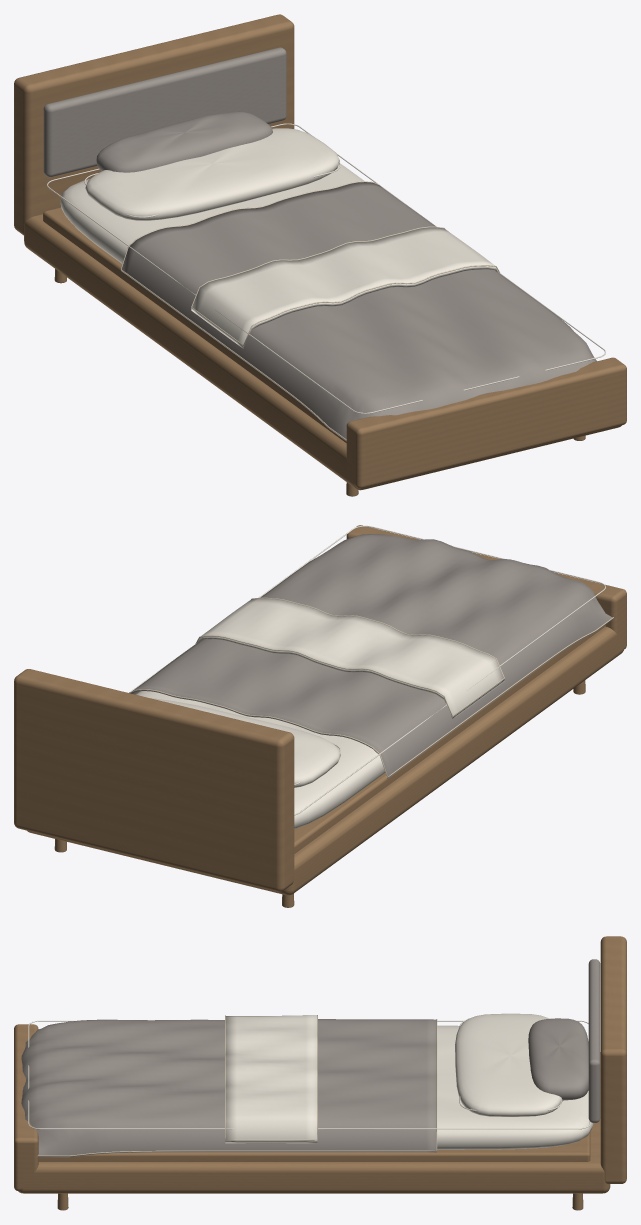
The picture shows the model from 3 angles, top to bottom: view 1: azimuth 30°, elevation 25°; view 2: azimuth 150°, elevation 25°; view 3: azimuth 270°, elevation 25°; orthographic projection. The views are drawn at different scales.
Parts seen in each view (by area): view 1: quilt_draped, footboard, throw_fold, headboard_inlay, headboard, bed_platform, pillow_sleep_0, pillow_decor_0, mattress, bed_support, mattress_piping, throw_fold_piping (+1 smaller); view 2: quilt_draped, headboard, throw_fold, bed_platform, mattress, bed_support, pillow_sleep_0, footboard, mattress_piping, throw_fold_piping, quilt_draped_piping; view 3: quilt_draped, bed_platform, throw_fold, pillow_sleep_0, mattress, headboard, bed_support, pillow_decor_0, footboard, headboard_inlay, mattress_piping, quilt_draped_piping (+1 smaller).
Boxes of the visible parts, x1,y1,x2,y2 form: quilt_draped: (121,182,596,441); footboard: (346,357,626,488); throw_fold: (191,227,498,348); headboard_inlay: (43,47,286,177); headboard: (14,14,294,235); bed_platform: (24,214,621,490); pillow_sleep_0: (85,128,339,220); pillow_decor_0: (96,111,272,172); mattress: (60,163,364,263); bed_support: (43,207,346,442); mattress_piping: (47,123,605,413); throw_fold_piping: (191,226,499,346); quilt_draped: (130,534,612,778); headboard: (14,669,294,891); throw_fold: (197,598,504,719); bed_platform: (27,626,623,895); mattress: (136,691,385,828); bed_support: (294,625,605,853); pillow_sleep_0: (151,698,340,787); footboard: (346,525,626,651); mattress_piping: (129,525,605,815); throw_fold_piping: (195,597,504,716); quilt_draped_piping: (129,617,613,777); quilt_draped: (21,1019,436,1157); bed_platform: (18,1052,610,1193); throw_fold: (225,1015,317,1143); pillow_sleep_0: (455,1013,562,1116); mattress: (437,1025,593,1149); headboard: (600,936,626,1183); bed_support: (38,1132,590,1161); pillow_decor_0: (528,1018,588,1100); footboard: (14,1024,38,1191); headboard_inlay: (588,959,600,1122); mattress_piping: (28,1020,590,1129); quilt_draped_piping: (37,1019,437,1156).
Bounding box in the file's own units: 0.9 × 0.6 × 2.
Materials: 4 (3 with a texture image).
